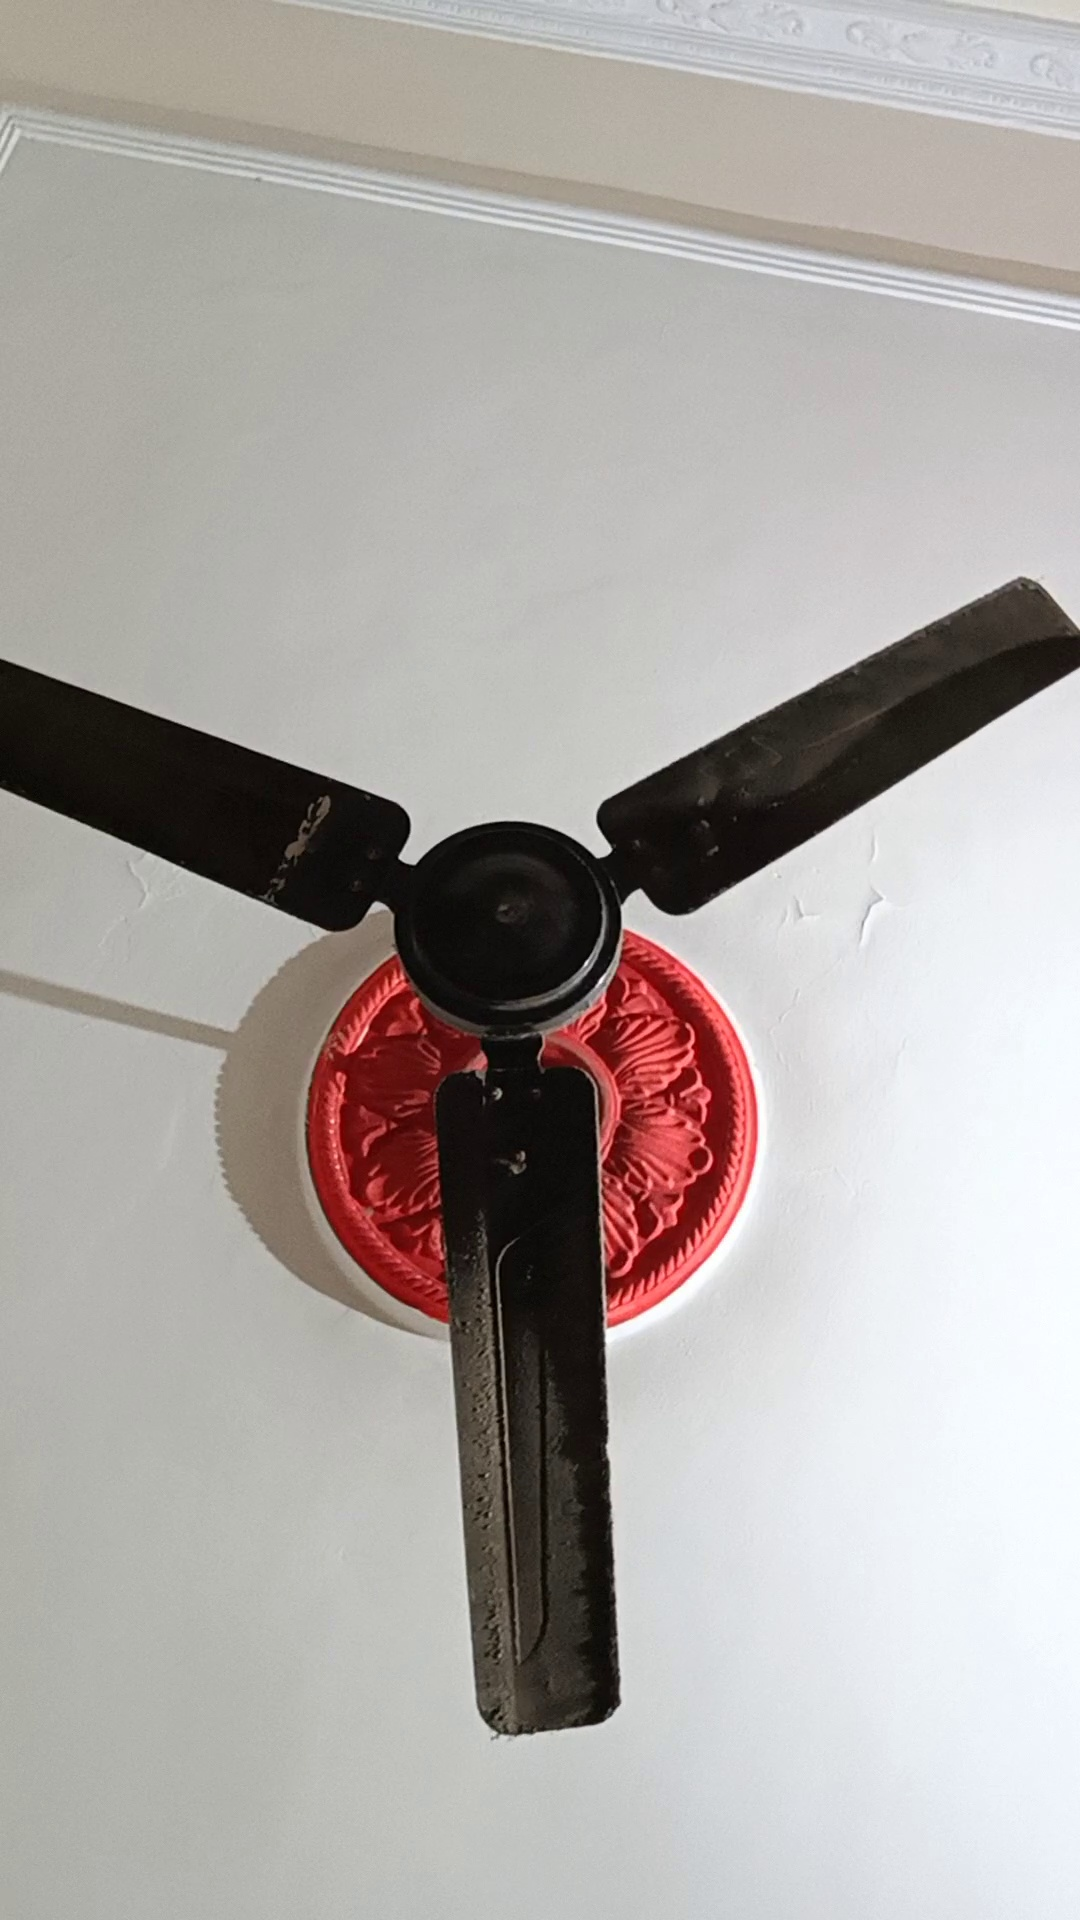fan: (11, 566, 1080, 1743)
